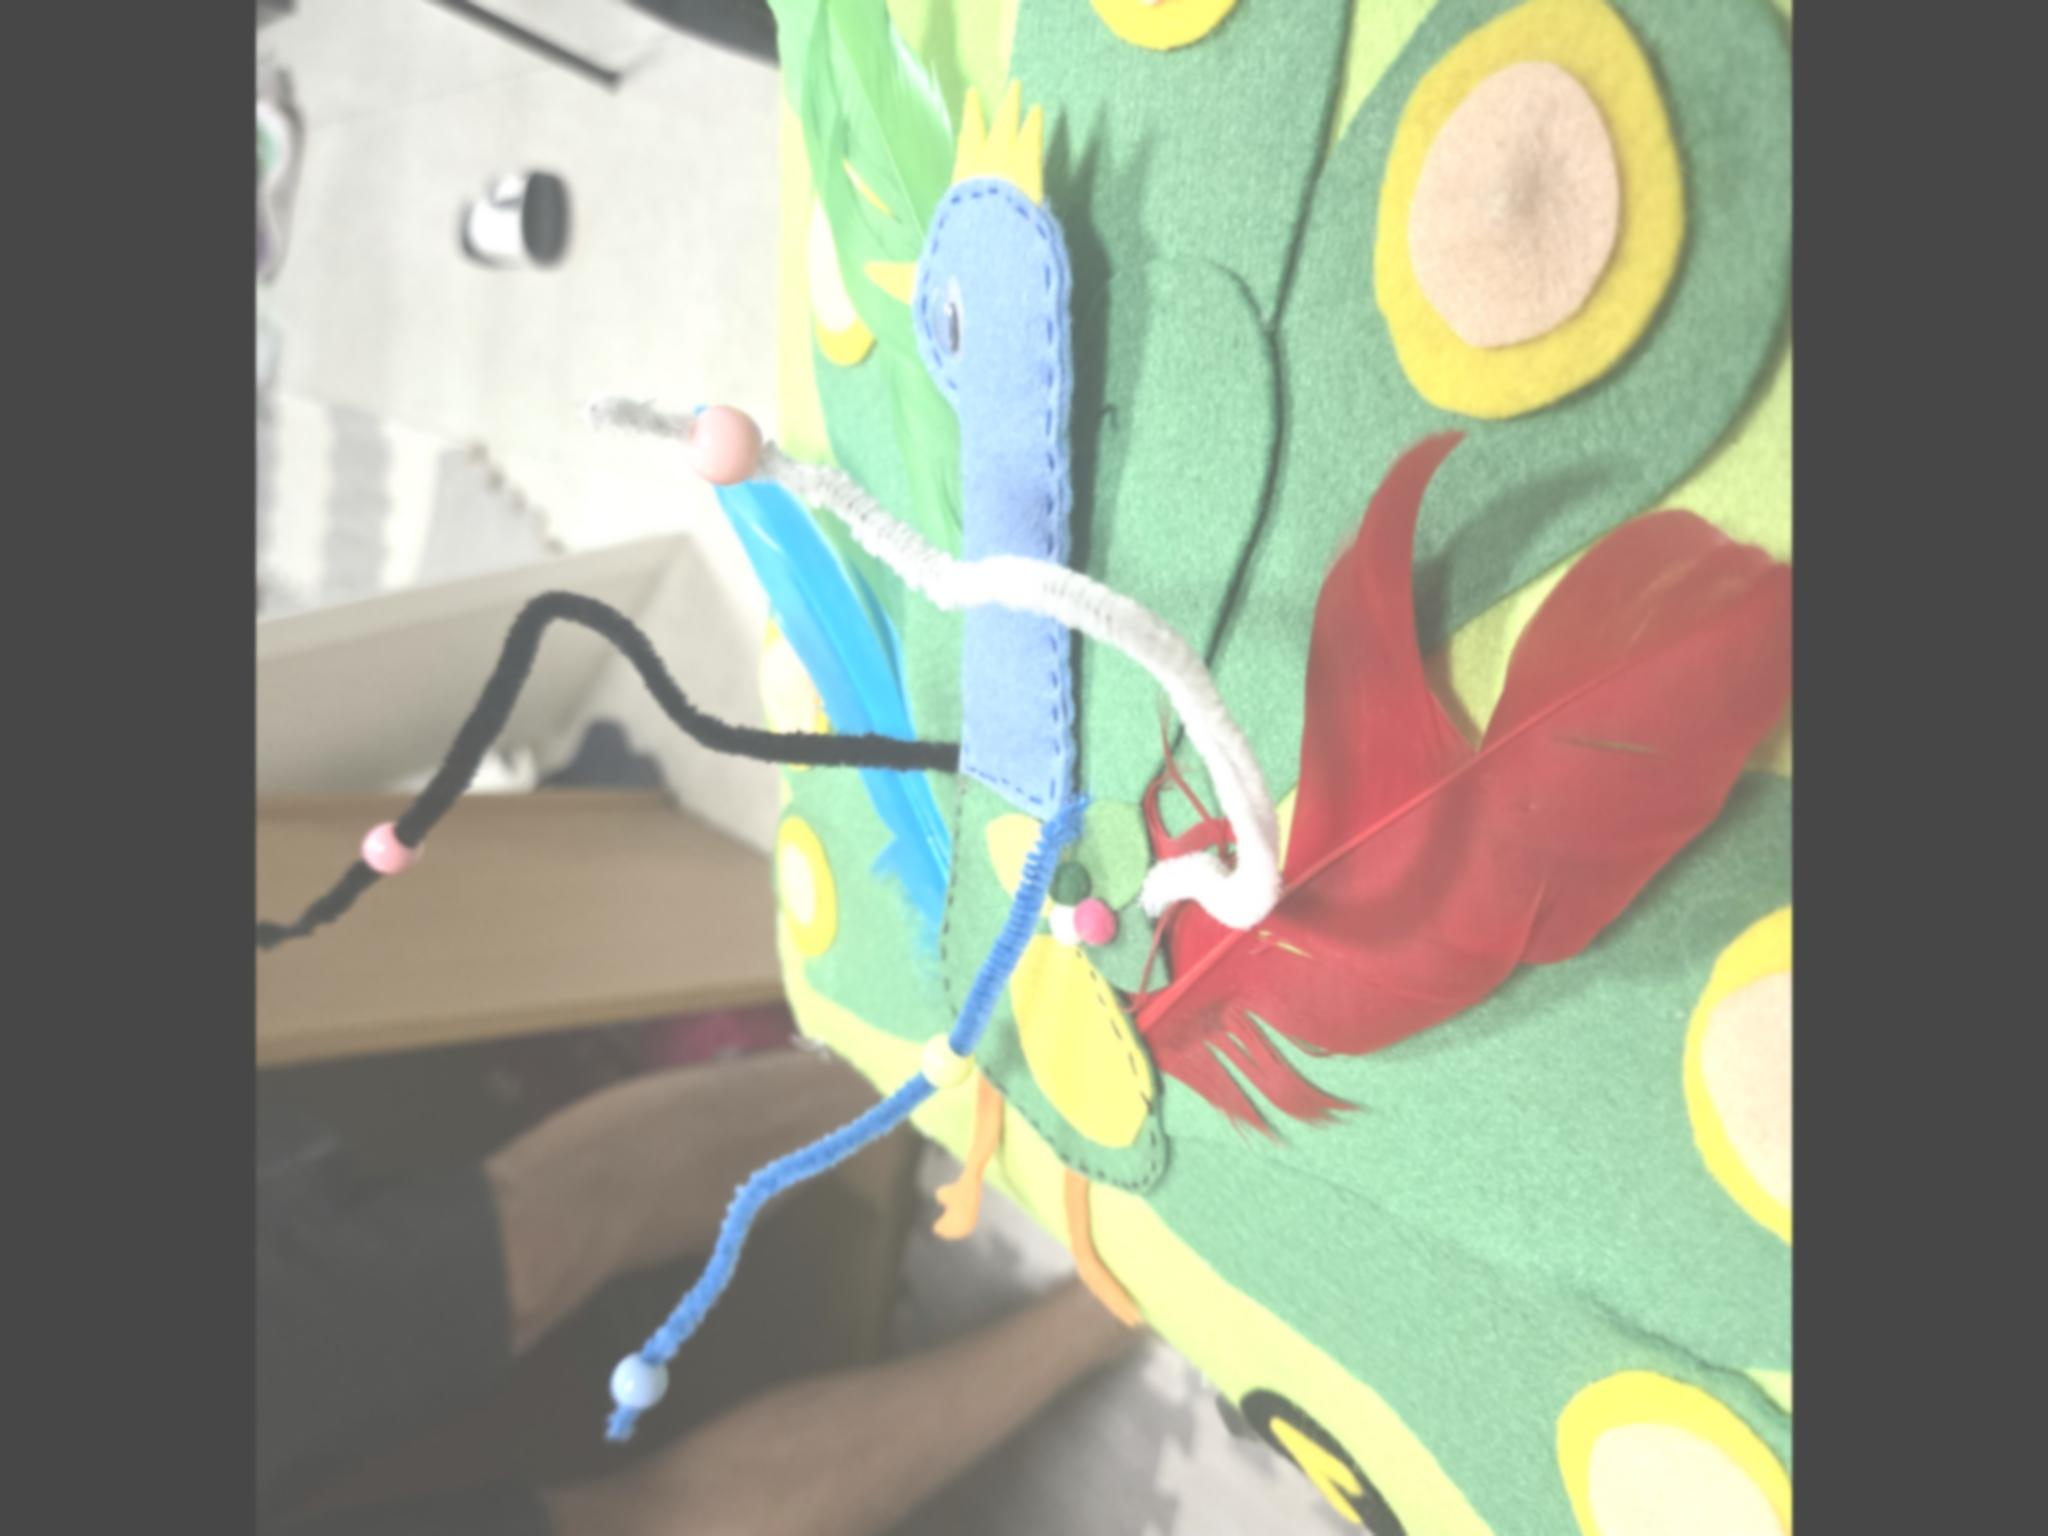bead: (671, 379, 772, 497), (589, 1339, 689, 1412), (906, 1025, 990, 1100), (348, 816, 426, 895)
